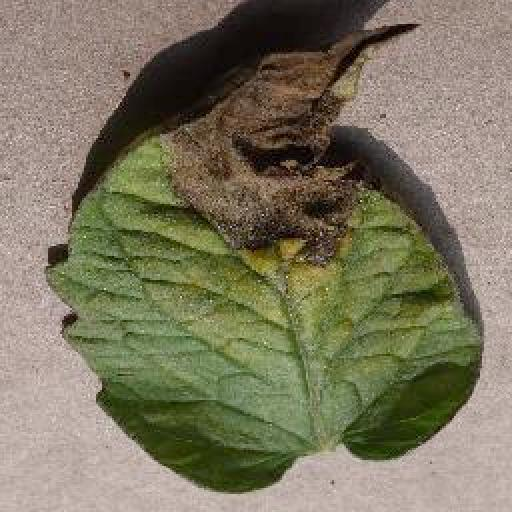disease_tomato: (40, 18, 486, 496)
